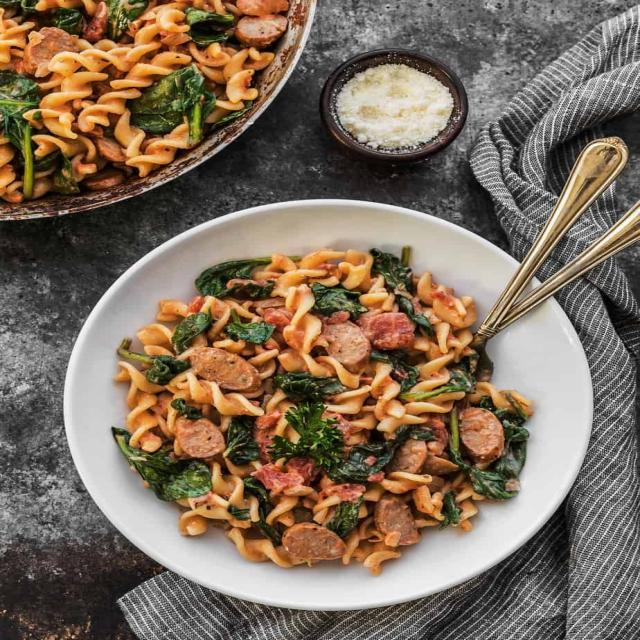pasta: (180, 273, 480, 549), (34, 28, 222, 157)
